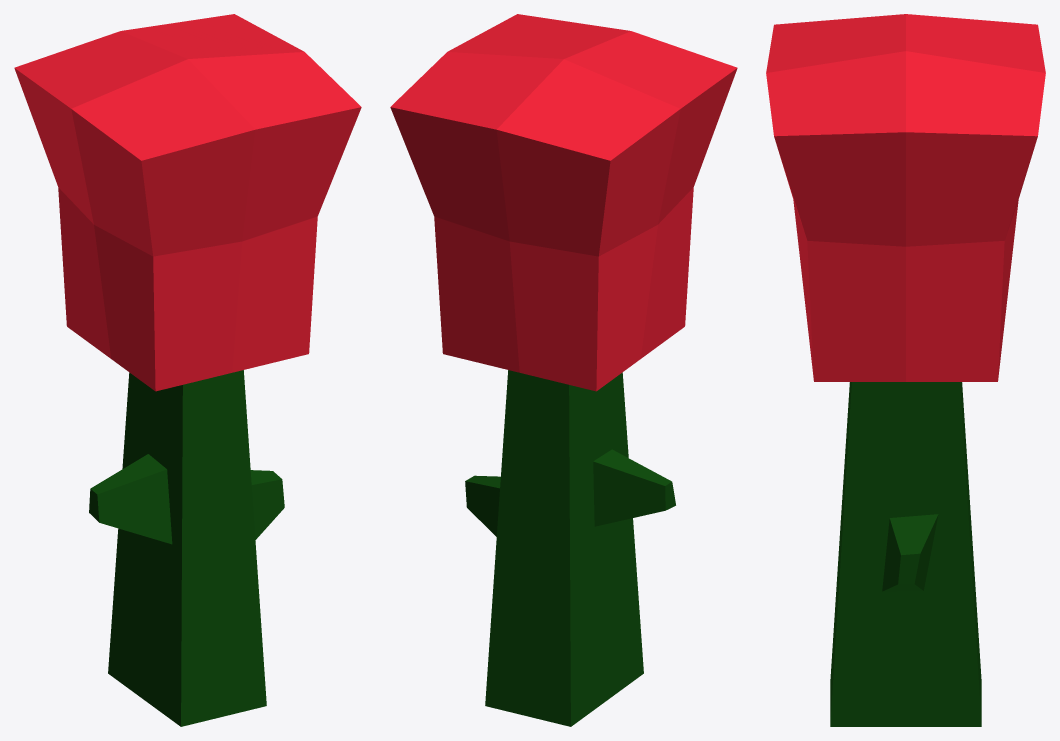
The model's file is rose.glb.
The picture shows the model from 3 angles, left to right: view 1: azimuth 30°, elevation 25°; view 2: azimuth 150°, elevation 25°; view 3: azimuth 270°, elevation 25°; orthographic projection. The views are drawn at different scales.
Parts seen in each view (by area): view 1: rose; view 2: rose; view 3: rose.
Part boxes in pixels (<box>): rose: <box>14,14,361,726</box>; rose: <box>390,14,737,726</box>; rose: <box>766,14,1045,726</box>.
Bounding box in the file's own units: 0.6348 × 1.64 × 0.6348.
